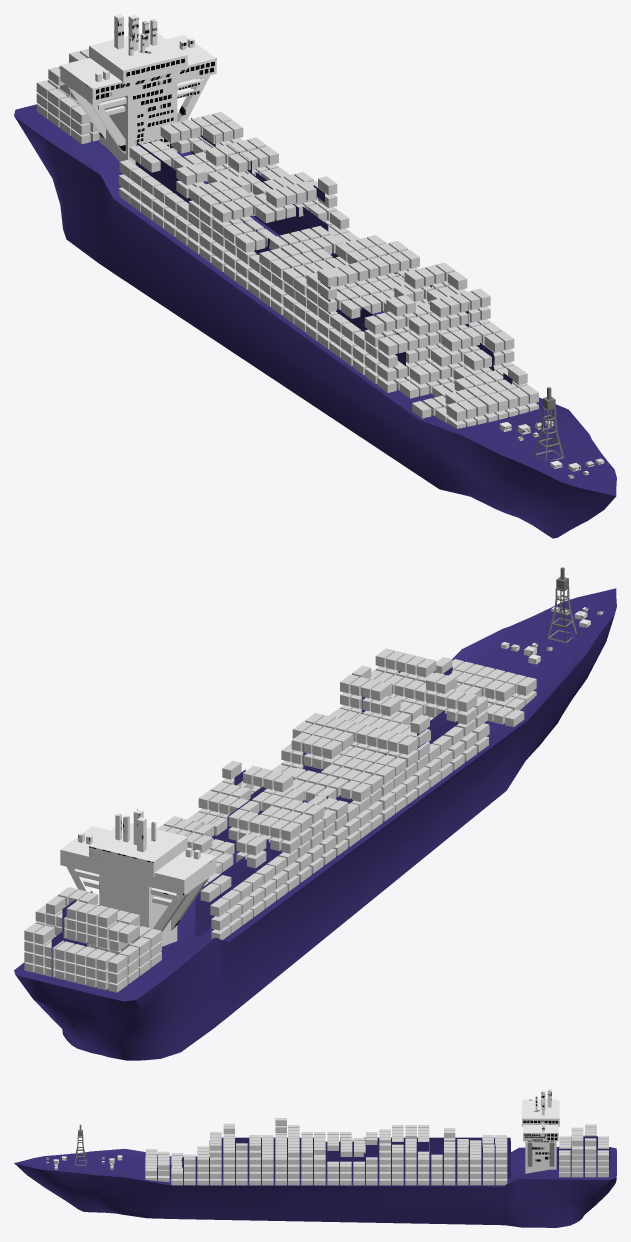
The model's file is Ship.fbx.
The picture shows the model from 3 angles, top to bottom: view 1: azimuth 30°, elevation 25°; view 2: azimuth 150°, elevation 25°; view 3: azimuth 270°, elevation 25°; orthographic projection. The views are drawn at different scales.
Visible parts, largest first — view 1: Cube.038, Cube, Cube.024, Cube.031; view 2: Cube.038, Cube, Cube.024, Cube.031; view 3: Cube, Cube.038, Cube.024, Cube.031.
Boxes of the visible parts, x1,y1,x2,y2 form: Cube.038: (36, 48, 538, 428); Cube: (14, 104, 616, 538); Cube.024: (60, 14, 604, 478); Cube.031: (534, 387, 564, 461); Cube.038: (24, 648, 536, 992); Cube: (14, 588, 616, 1060); Cube.024: (60, 606, 603, 946); Cube.031: (547, 567, 576, 643); Cube: (14, 1125, 616, 1227); Cube.038: (145, 1118, 608, 1185); Cube.024: (46, 1089, 559, 1173); Cube.031: (74, 1124, 86, 1165).
Bounding box in the file's own units: 159 × 269 × 1212.
